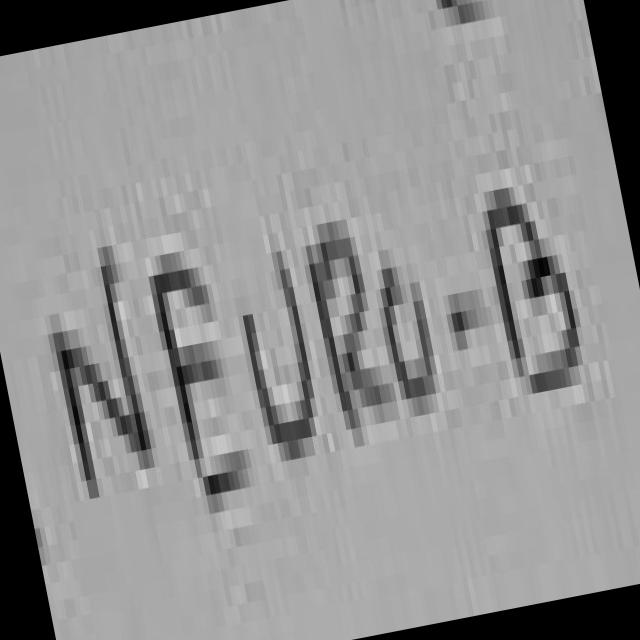B: (493, 205, 583, 403)
E: (151, 251, 249, 495)
N: (54, 246, 150, 490)
O: (386, 267, 439, 416)
R: (311, 222, 390, 428)
U: (249, 269, 317, 459)
